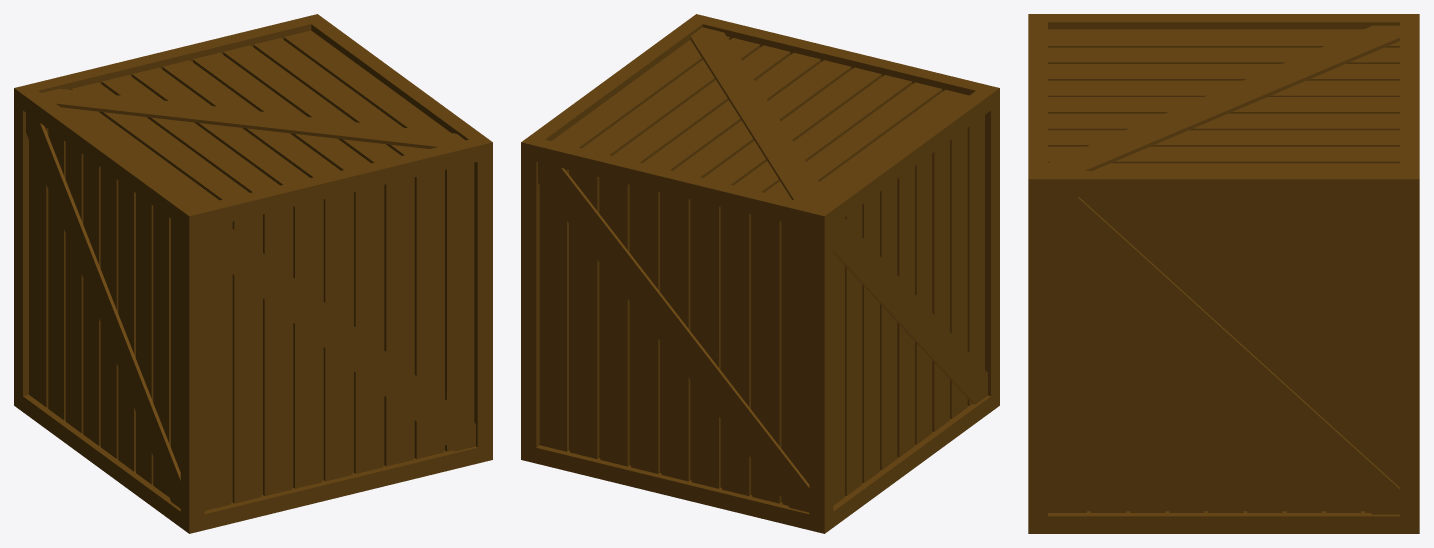
File: Wooden_Box_Color.fbx
3 renders of one model, left to right at view 1: azimuth 30°, elevation 25°; view 2: azimuth 150°, elevation 25°; view 3: azimuth 270°, elevation 25°, orthographic. The views are drawn at different scales.
Visible parts, largest first — view 1: Object; view 2: Object; view 3: Object.
Boxes of the visible parts, x1,y1,x2,y2 form: Object: [14, 14, 492, 533]; Object: [521, 14, 999, 533]; Object: [1028, 14, 1419, 533].
Size of the model in its own units: 100 by 100 by 100.
